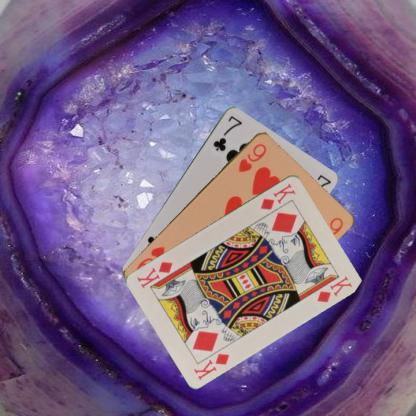7c: (210, 112, 244, 152)
9h: (235, 140, 268, 174)
Kd: (191, 350, 231, 381), (258, 180, 297, 211)
